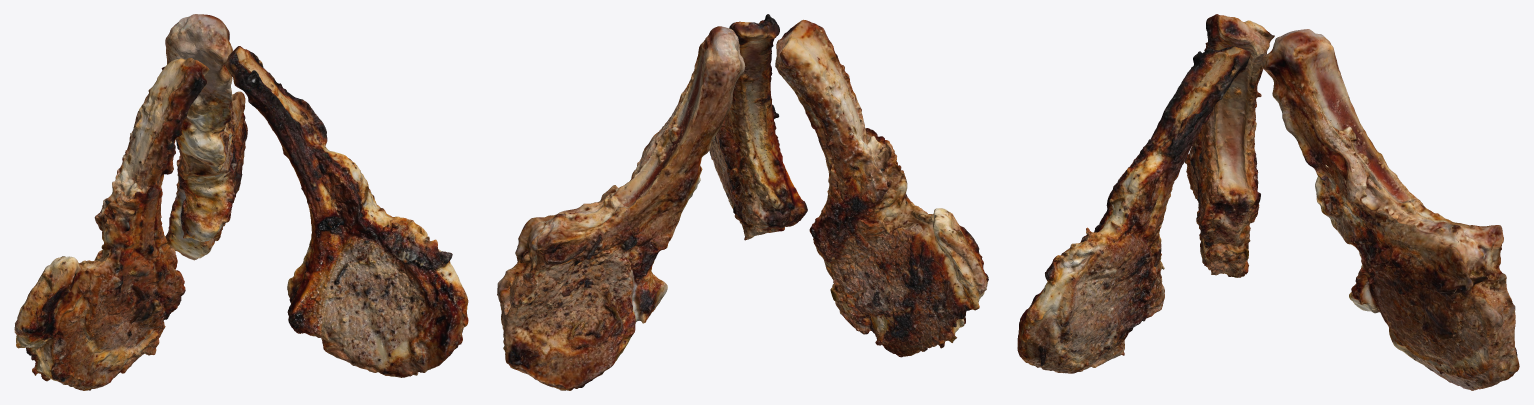
Rendered from costeletas-de-cordeiro.glb.
The picture shows the model from 3 angles, left to right: view 1: azimuth 30°, elevation 25°; view 2: azimuth 150°, elevation 25°; view 3: azimuth 270°, elevation 25°; orthographic projection. The views are drawn at different scales.
Parts seen in each view (by area): view 1: Object_4, Object_6, Object_7, Object_2, Object_5, Object_3; view 2: Object_2, Object_6, Object_3, Object_4, Object_7, Object_5; view 3: Object_2, Object_4, Object_3, Object_6, Object_5, Object_7.
Boxes of the visible parts, x1,y1,x2,y2 form: Object_4: (225, 46, 468, 369); Object_6: (14, 58, 209, 388); Object_7: (27, 110, 181, 390); Object_2: (165, 14, 247, 260); Object_5: (247, 61, 468, 377); Object_3: (168, 26, 245, 259); Object_2: (497, 26, 745, 390); Object_6: (775, 19, 988, 355); Object_3: (497, 33, 739, 360); Object_4: (709, 14, 807, 240); Object_7: (775, 60, 980, 357); Object_5: (710, 15, 792, 238); Object_2: (1273, 29, 1519, 390); Object_4: (1017, 46, 1251, 373); Object_3: (1261, 44, 1517, 388); Object_6: (1185, 14, 1274, 276); Object_5: (1019, 54, 1226, 373); Object_7: (1187, 48, 1266, 277).
Bounding box in the file's own units: 0.237 × 0.1967 × 0.2787.
Materials: 3 (3 with a texture image).
